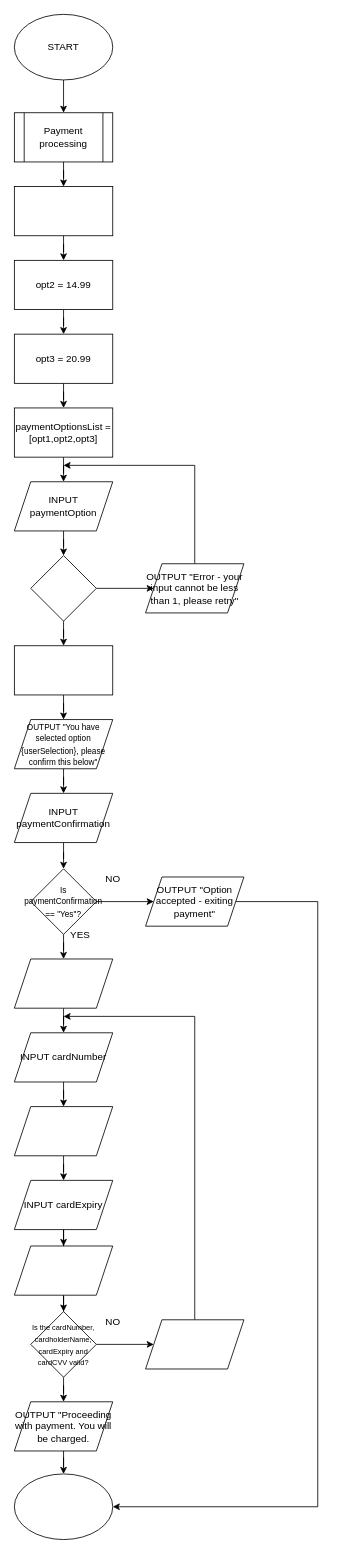
Image size: 339x1554. Some labels were removed from this diagram. Here are the shapes that lost their labels. From the top down, the centre of each, then its label:
[63,211]: opt1 = 10.99
[63,588]: Is paymentOption > 0?
[63,670]: userSelection = paymentOptionsList [paymentOption - 1]
[63,983]: OUTPUT "Option accepted - proceeding to payment"
[63,1131]: INPUT cardholderName
[63,1270]: INPUT cardCVV
[194,1344]: OUTPUT "Error - invalid details, please retry."
[63,1506]: END
